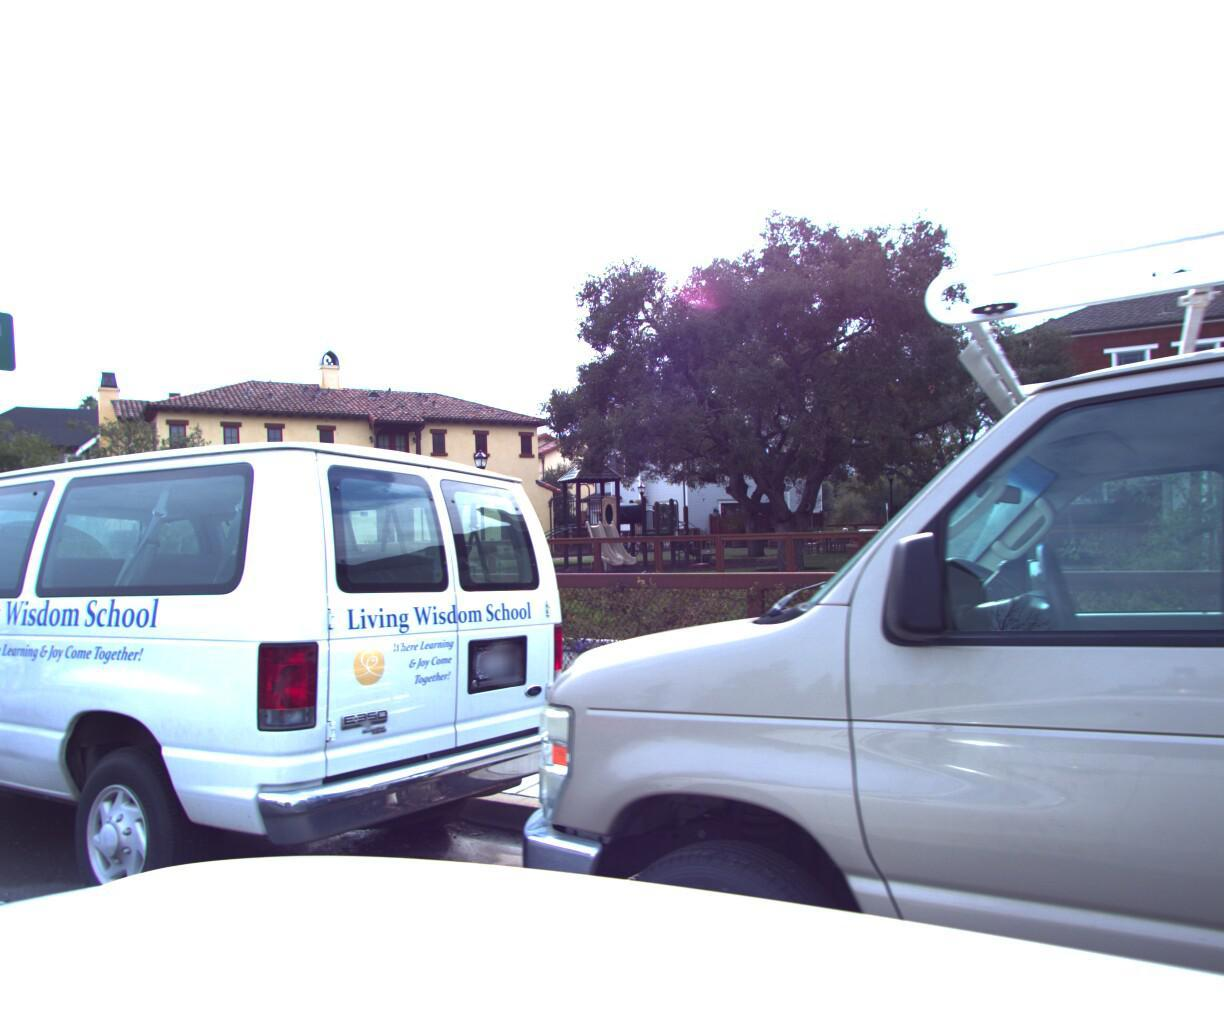car: (0, 408, 606, 1024), (857, 514, 928, 540)
